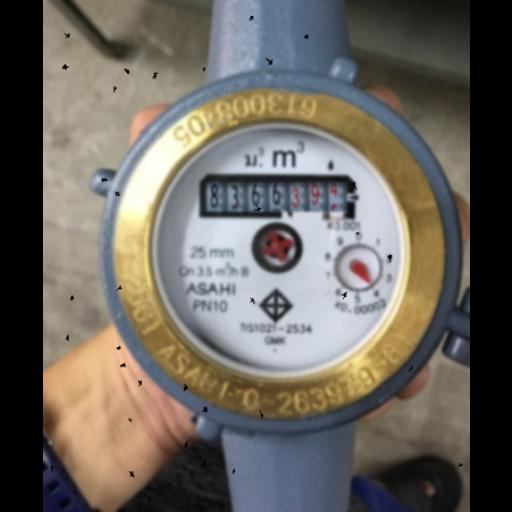3: (226, 183, 242, 211), (289, 183, 304, 211)
4: (328, 183, 343, 211)
6: (248, 182, 263, 210), (269, 181, 283, 211)
8: (206, 182, 222, 212)
9: (308, 182, 322, 212)
border_water_meter_number: (198, 173, 356, 220)
